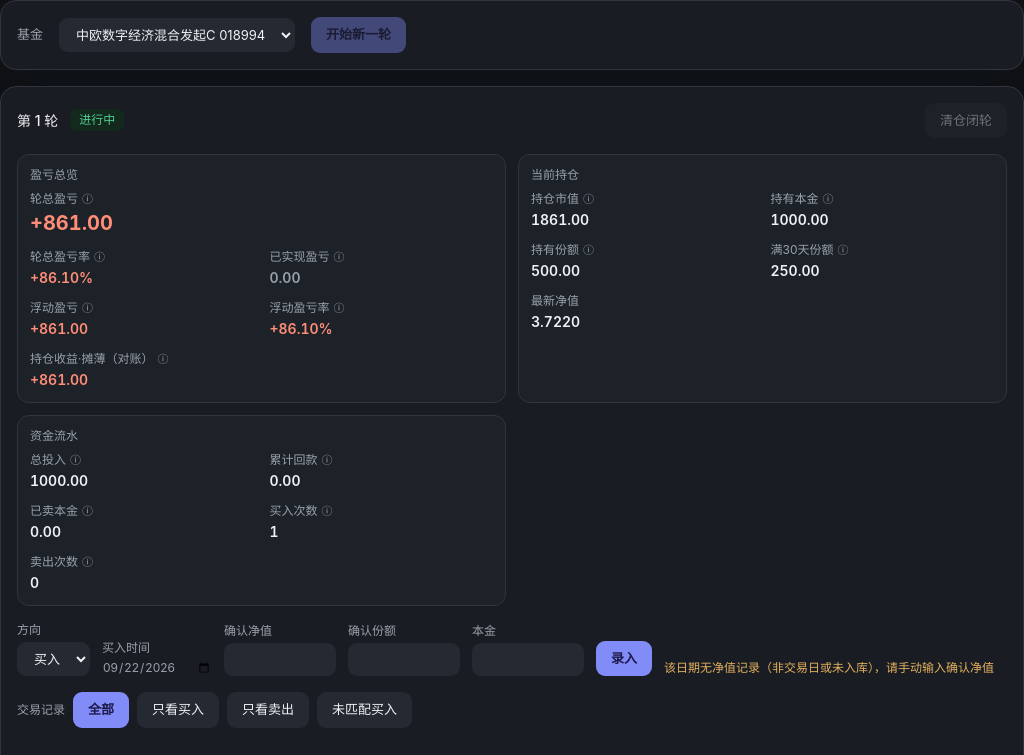
Test: Rounds › 过滤空态：无匹配记录时提示
Expected: the text "第 1 轮" is shown, [17,110,58,131]
Click the button "只看卖出".
click(268, 710)  # box [227,692,309,728]
(page scrolled)
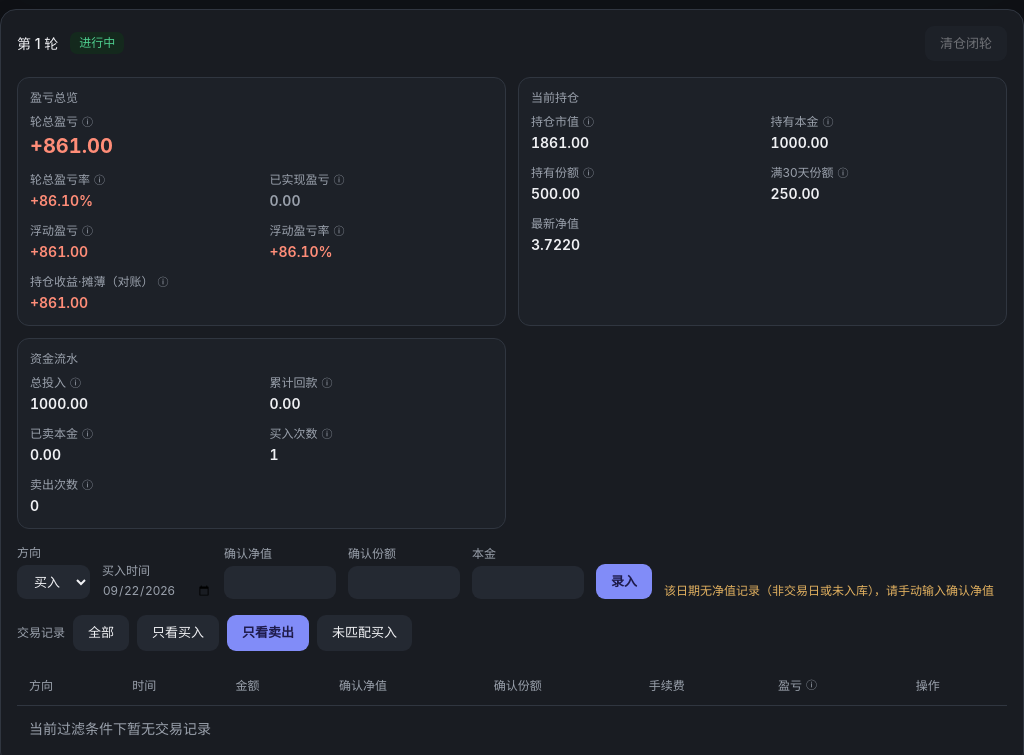
Result: the text "当前过滤条件下暂无交易记录" is shown at [17,705,1007,750]
